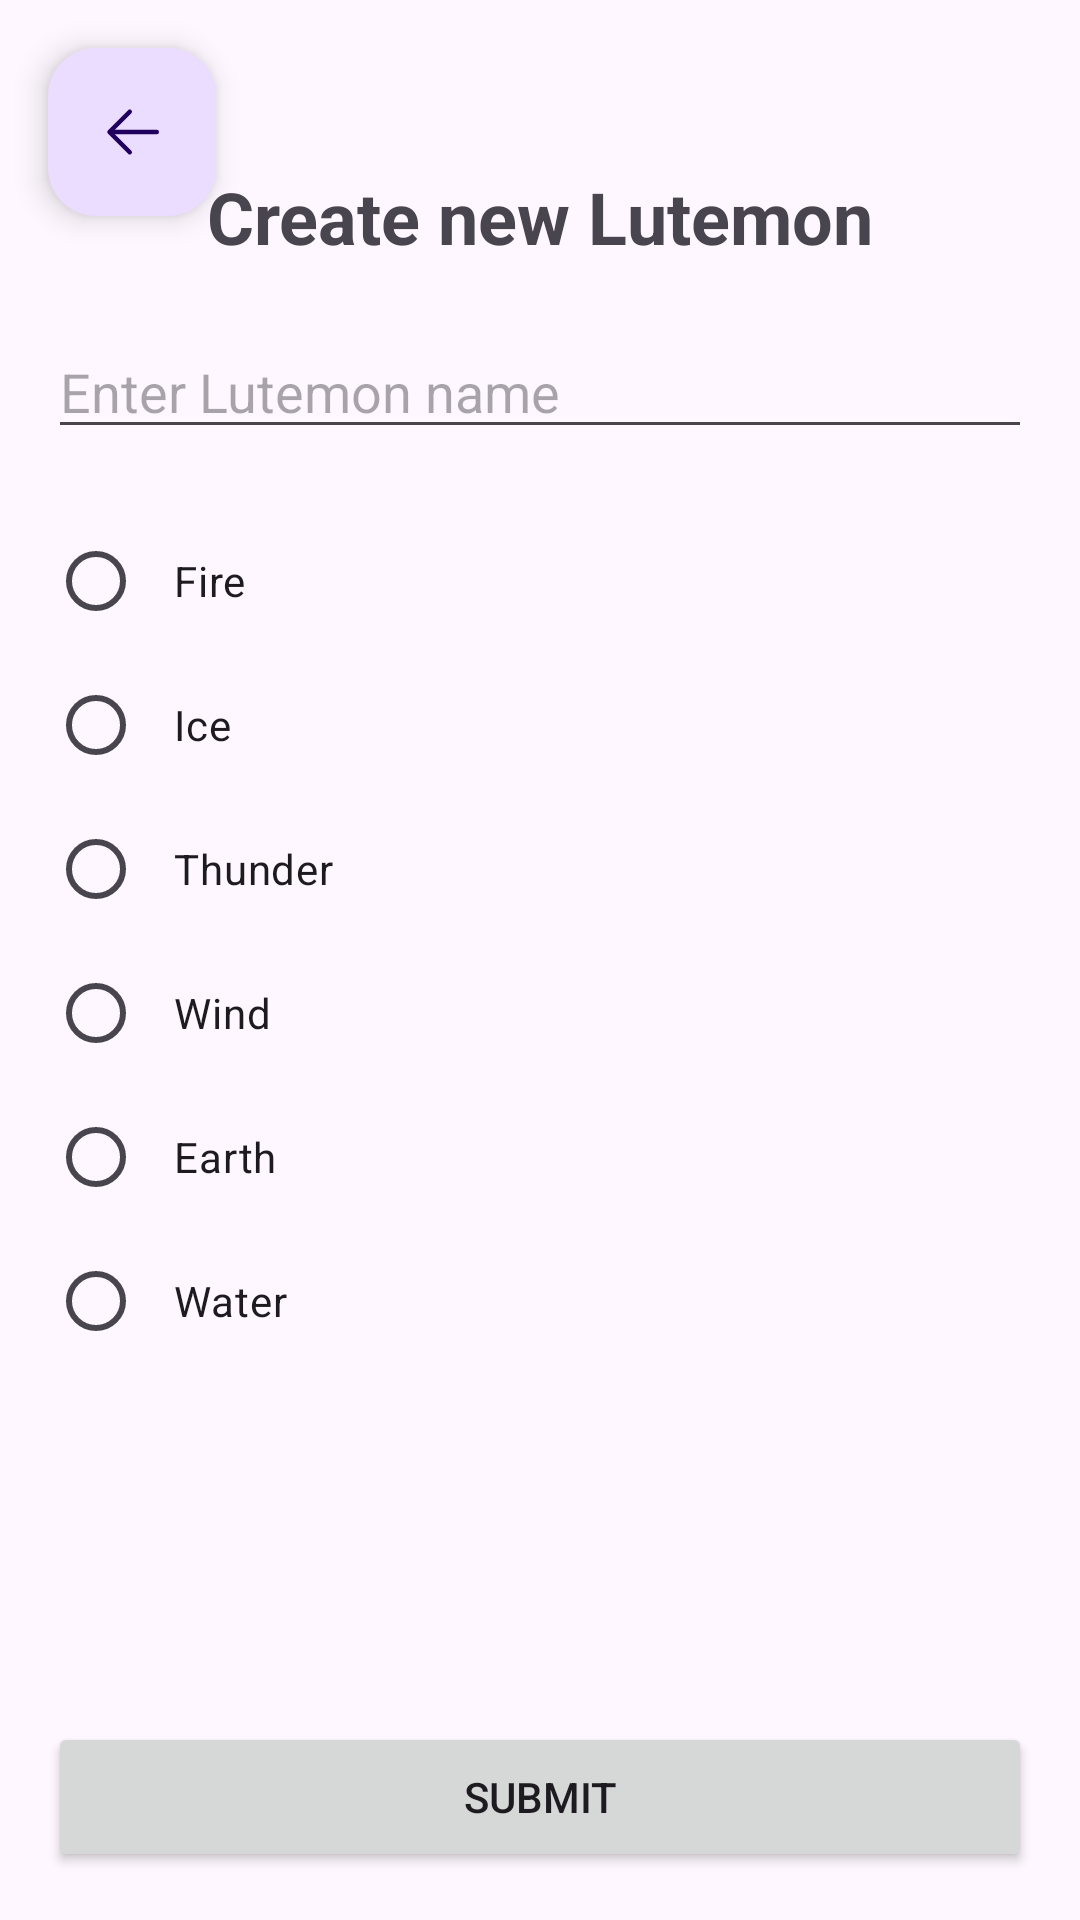

Icon click points for this 1080*1920 phone screenshot, format point (x, y):
Back to lutemon list: point (132, 132)
